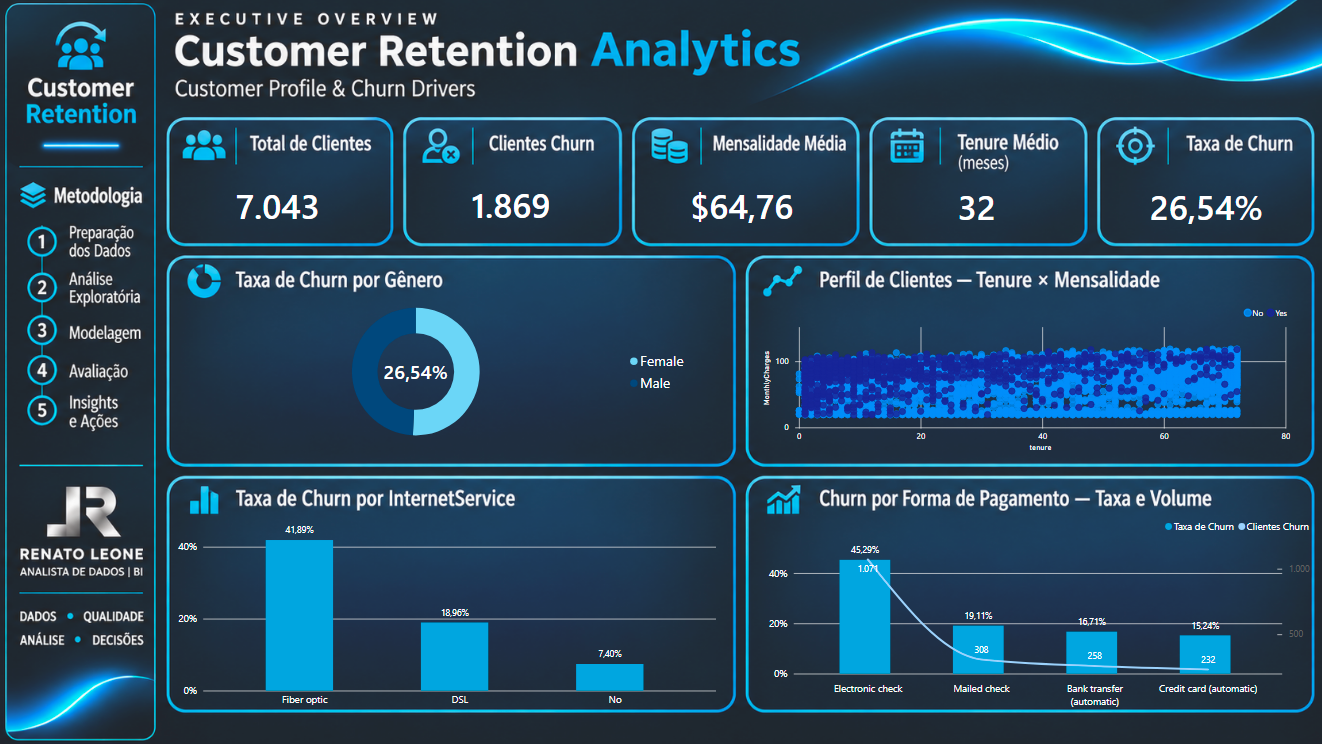

Layout of this report page (visuals, bound fields, positions):
{"tool":"powerbi","page":{"name":"02_CUSTOMER RETENTION ANALYTICS","canvas":[1920,1080],"ordinal":1},"visuals":[{"type":"donutChart","title":"Taxa de Churn por Gênero","fields":{"Category":["customer_churn_clean.gender"],"Y":["customer_churn_clean.Taxa de Churn"]},"box":[282.2,409.8,737.1,261.2],"z":6000},{"type":"scatterChart","title":"Perfil de Clientes — Tenure × Mensalidade","fields":{"Series":["customer_churn_clean.Churn"],"X":["customer_churn_clean.tenure"],"Y":["customer_churn_clean.MonthlyCharges"]},"box":[1092.9,426.3,795.6,244.7],"z":8000},{"type":"clusteredColumnChart","fields":{"Category":["customer_churn_clean.InternetService"],"Y":["customer_churn_clean.Taxa de Churn"]},"box":[246.2,717.6,810.6,327.3],"z":9000},{"type":"lineClusteredColumnComboChart","title":"Churn por Forma de Pagamento — Taxa e Volume","fields":{"Category":["customer_churn_clean.PaymentMethod"],"Y":["customer_churn_clean.Taxa de Churn"],"Y2":["customer_churn_clean.Clientes Churn"]},"box":[1092.9,734.1,827.1,310.7],"z":10000},{"type":"cardVisual","fields":{"Data":["customer_churn_clean.Total Clientes"]},"box":[253.7,231.2,306.2,133.6],"z":10001},{"type":"cardVisual","fields":{"Data":["customer_churn_clean.Clientes Churn"]},"box":[597.5,231.2,292.5,131.8],"z":10002},{"type":"cardVisual","fields":{"Data":["customer_churn_clean.Mensalidade Média"]},"box":[932.2,231.2,292.5,133.2],"z":10003},{"type":"cardVisual","fields":{"Data":["customer_churn_clean.Tenure Médio"]},"box":[1265.5,231.2,307,134.7],"z":10004},{"type":"cardVisual","fields":{"Data":["customer_churn_clean.Taxa de Churn"]},"box":[1606.3,231.2,291.2,135.1],"z":10005}]}

Visuals, with their boxes in screenshot pixels (x1, y1, x2, y2), scaled from the page's 1920x1080 canvas onto the 1322x744 screenshot:
"Taxa de Churn por Gênero" donutChart: [194,282,702,462]
"Perfil de Clientes — Tenure × Mensalidade" scatterChart: [753,294,1300,462]
clusteredColumnChart - customer_churn_clean.InternetService x customer_churn_clean.Taxa de Churn: [170,494,728,720]
"Churn por Forma de Pagamento — Taxa e Volume" lineClusteredColumnComboChart: [753,506,1321,720]
cardVisual - customer_churn_clean.Total Clientes: [175,159,386,251]
cardVisual - customer_churn_clean.Clientes Churn: [411,159,613,250]
cardVisual - customer_churn_clean.Mensalidade Média: [642,159,843,251]
cardVisual - customer_churn_clean.Tenure Médio: [871,159,1083,252]
cardVisual - customer_churn_clean.Taxa de Churn: [1106,159,1307,252]
